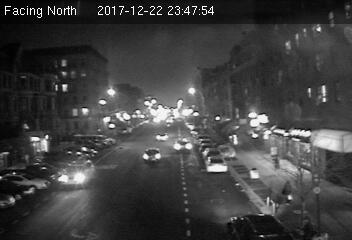car: (58, 160, 96, 188), (204, 156, 228, 172), (141, 147, 161, 162), (174, 138, 193, 153), (155, 132, 169, 141)
